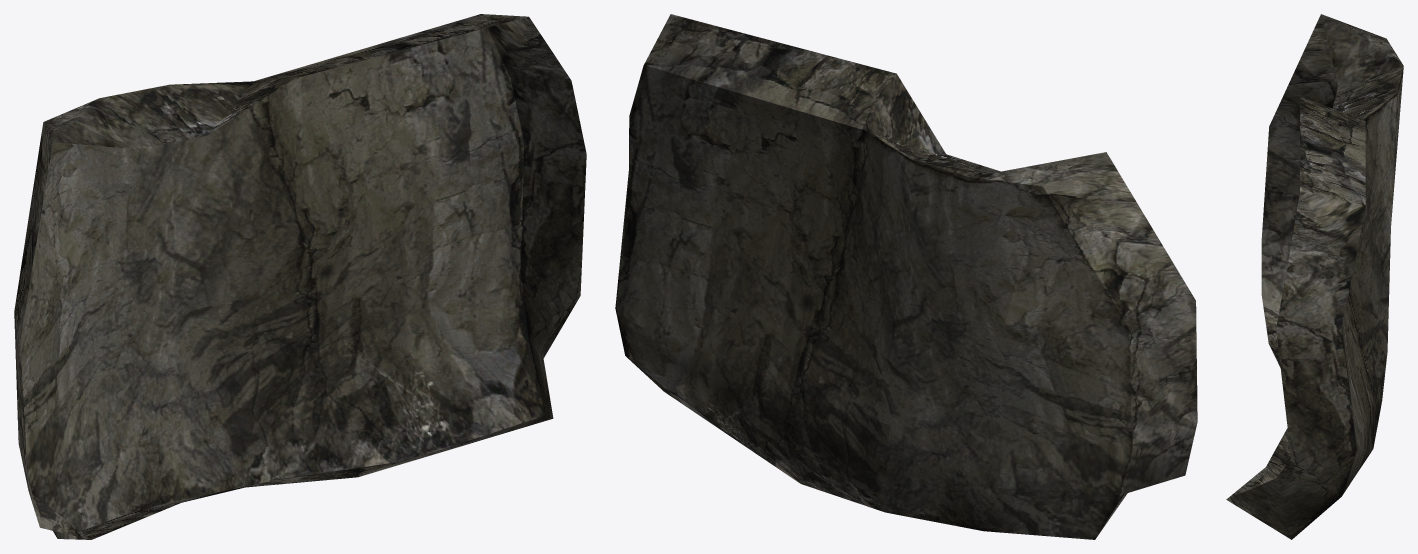
File: Rock_C.FBX
3 renders of one model, left to right at view 1: azimuth 30°, elevation 25°; view 2: azimuth 150°, elevation 25°; view 3: azimuth 270°, elevation 25°, orthographic. The views are drawn at different scales.
Visible parts, largest first — view 1: Rock_C; view 2: Rock_C; view 3: Rock_C.
Boxes of the visible parts, box(x1,y1,x2,y2) form: Rock_C: box(14, 14, 586, 539); Rock_C: box(615, 14, 1197, 539); Rock_C: box(1226, 14, 1403, 539).
Size of the model in its own units: 7.09 by 5.16 by 2.21.
